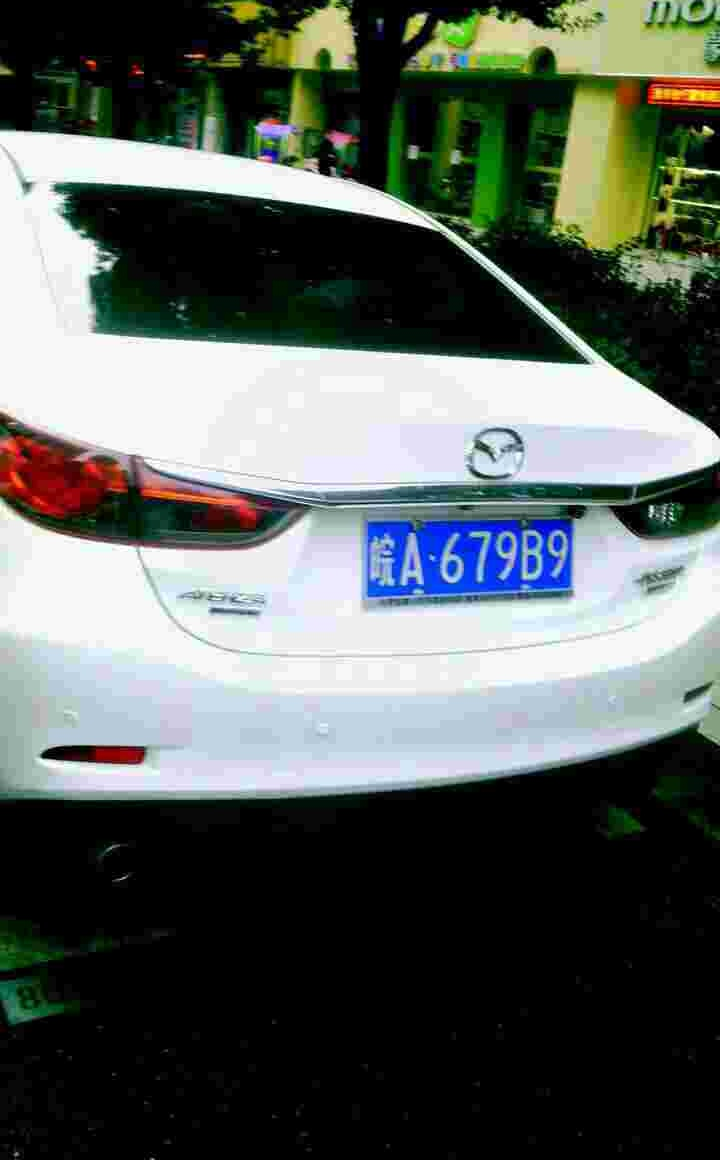plate: (369, 511, 582, 602)
